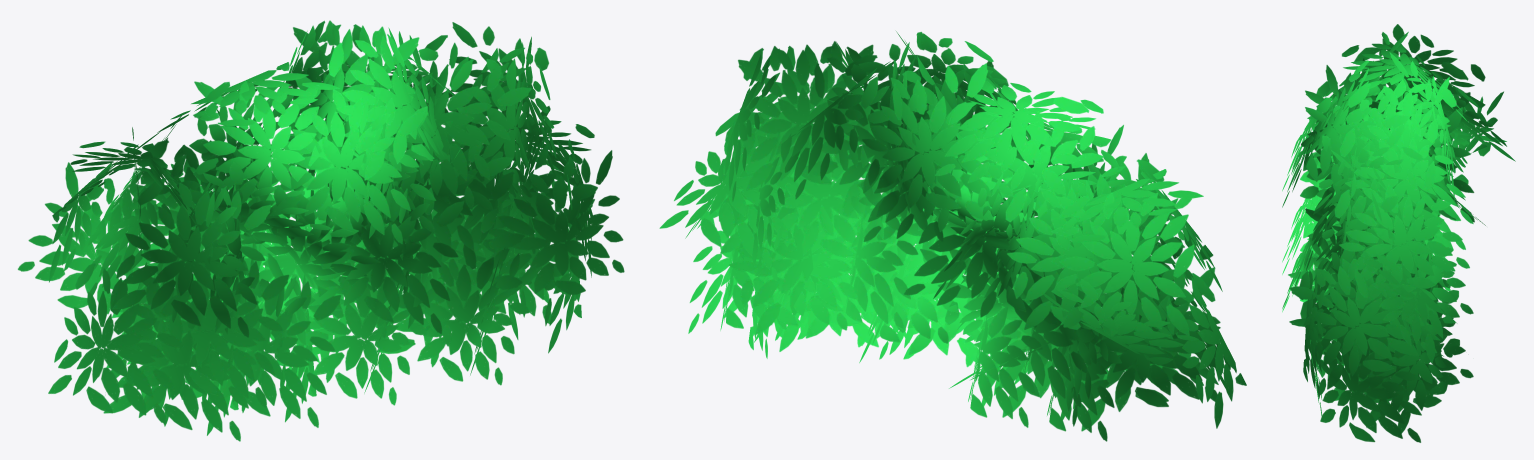
File: bush-round.lod0.glb
The picture shows the model from 3 angles, left to right: view 1: azimuth 30°, elevation 25°; view 2: azimuth 150°, elevation 25°; view 3: azimuth 270°, elevation 25°; orthographic projection. The views are drawn at different scales.
Visible parts, largest first — view 1: Object_6; view 2: Object_6; view 3: Object_6.
Boxes of the visible parts, box(x1,y1,x2,y2) form: Object_6: box(18, 20, 624, 441); Object_6: box(659, 31, 1246, 441); Object_6: box(1282, 24, 1515, 442).
Size of the model in its own units: 2.05 by 1.3 by 0.9119.
Materials: 1 (1 with a texture image).
